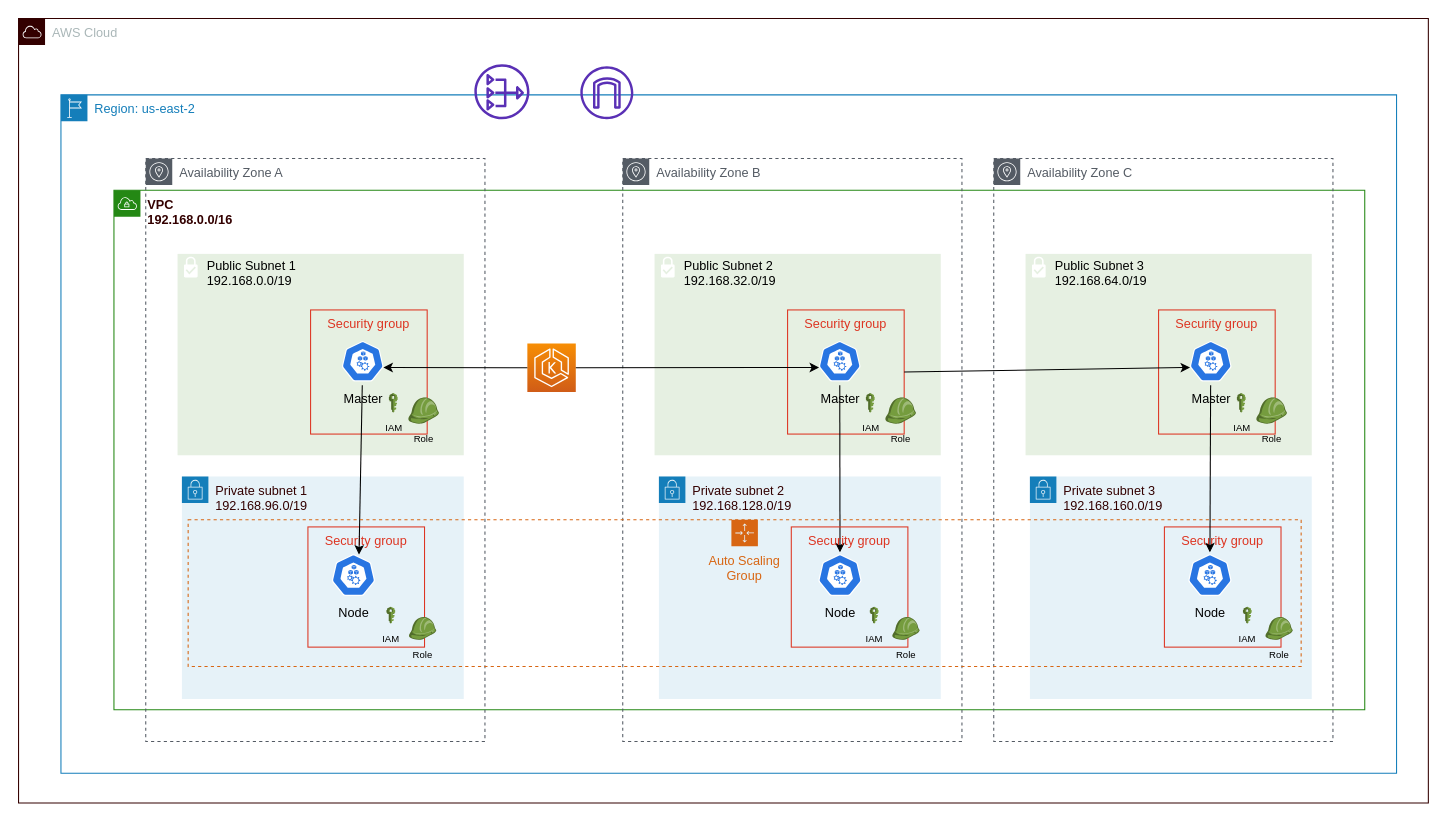
Image size: 1447x821. Some labels were removed from this diagram. The centre of each missing label's shape, as x and y in pixels:
"Amazon EKS" belongs at (551,367).
"Internet Gateway" belongs at (606,92).
"NAT Gateway" belongs at (501,91).
